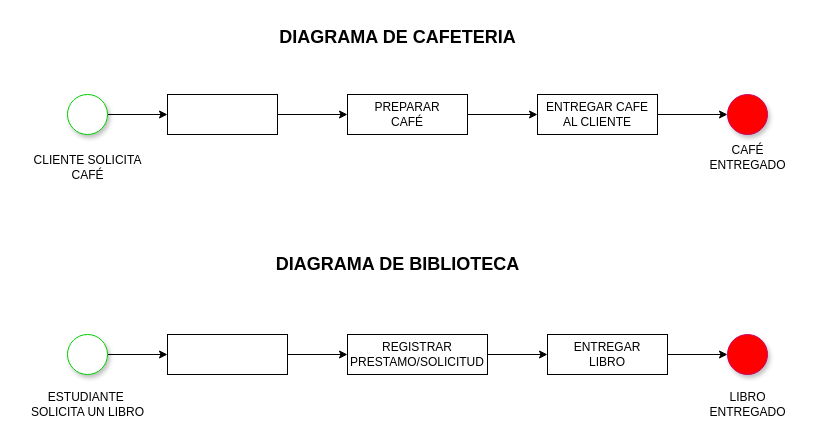
The diagram is 814 pixels wide and 441 high, and some of its shapes have lost their labels. Here are the shapes that lost their labels. From the top down, the centre of each, then its label:
At point 222,114: "TOMAR PEDIDO Y COBRAR".
At point 227,354: "BUSCAR DISPONIBILIDAD".
